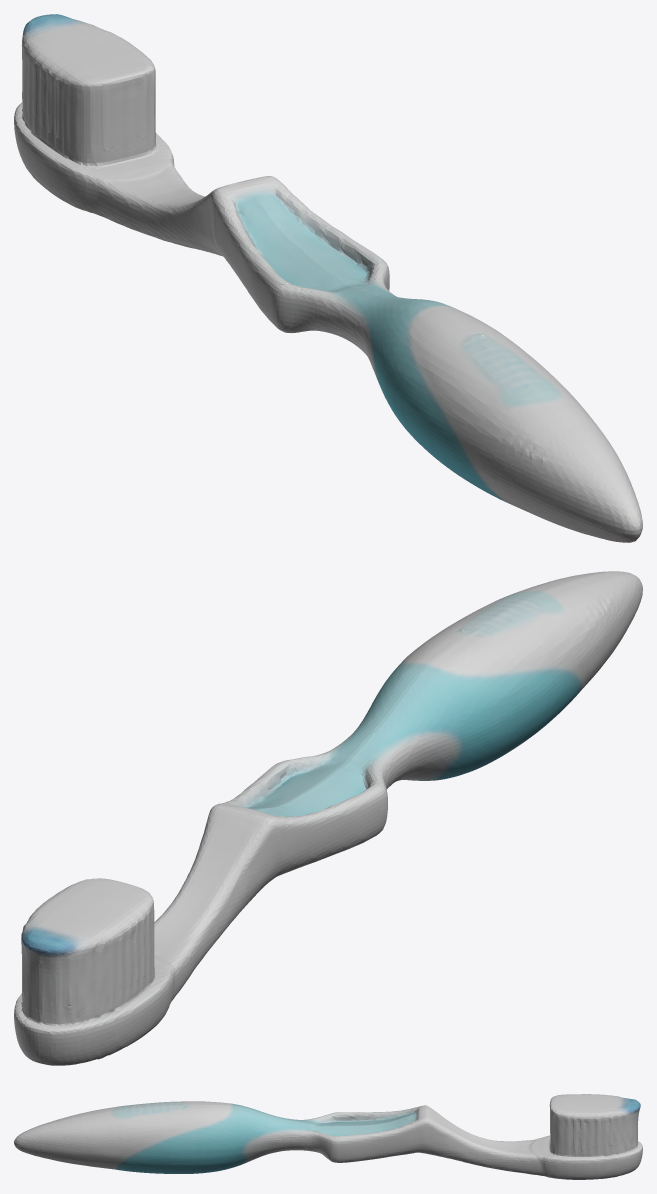
File: set4_obj2.glb
3 views of the same model, one above another, from view 1: azimuth 30°, elevation 25°; view 2: azimuth 150°, elevation 25°; view 3: azimuth 270°, elevation 25° (orthographic). The views are drawn at different scales.
Visible parts, largest first — view 1: world; view 2: world; view 3: world.
Boxes of the visible parts, x1,y1,x2,y2 form: world: (14,14,642,542); world: (14,571,642,1065); world: (14,1094,642,1179).
Bounding box in the file's own units: 0.1152 × 0.1198 × 0.9926.
